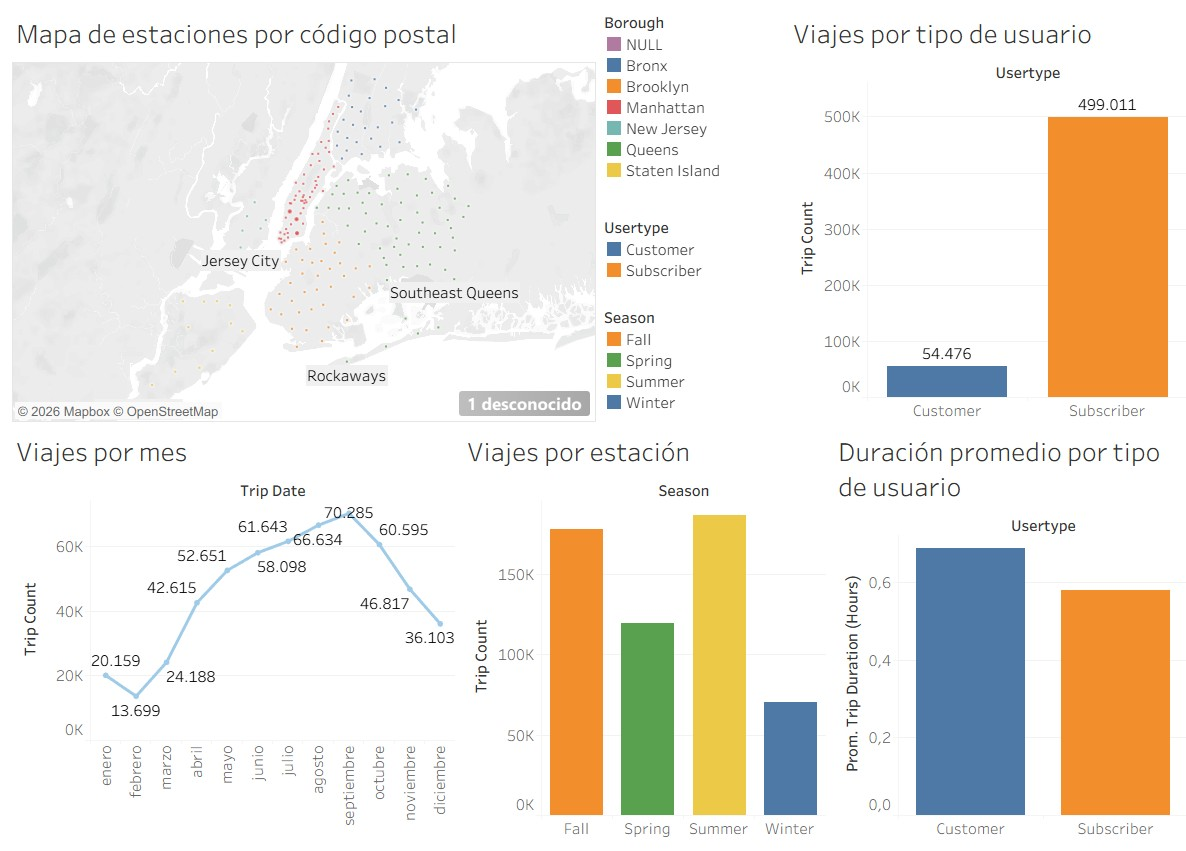

The page's visual inventory and layout, read from the dashboard file:
{"tool":"tableau","page":{"name":"Cyclistic Dashboard","canvas":[1000,1000],"units":"permille","ordinal":0},"visuals":[{"type":"worksheet","title":"Mapa de estaciones por código postal","mark":"Automatic","box":[6.7,9.4,493.3,490.6]},{"type":"legend","title":"Mapa de estaciones por código postal","param":"[federated.09dc49m0d8jiud188qpj61i5r5r9].[none:borough:nk]","box":[500,9.4,154.2,240.6]},{"type":"worksheet","title":"Viajes por tipo de usuario","mark":"Bar","rows":["trip_count"],"cols":["usertype"],"box":[654.2,9.4,339.2,490.6]},{"type":"legend","title":"Viajes por tipo de usuario","param":"[federated.09dc49m0d8jiud188qpj61i5r5r9].[none:usertype:nk]","box":[500,250,154.2,105.6]},{"type":"legend","title":"Viajes por estación","param":"[federated.09dc49m0d8jiud188qpj61i5r5r9].[none:Calculation_1672918004445189:nk]","box":[500,355.6,154.2,144.4]},{"type":"worksheet","title":"Viajes por mes","mark":"Line","rows":["trip_count"],"cols":["Calculation_1672918004252676"],"box":[6.7,500,375.8,490.6]},{"type":"worksheet","title":"Viajes por estación","mark":"Bar","rows":["trip_count"],"cols":["Calculation_1672918004445189"],"box":[382.5,500,309.2,490.6]},{"type":"worksheet","title":"Duración promedio por tipo de usuario","mark":"Bar","rows":["Calculation_1672918004019203"],"cols":["usertype"],"box":[691.7,500,301.7,490.6]}]}

Visuals, with their boxes on the dashboard's canvas, which has no fixed pixel size, in thousandths of its width and height (x1, y1, x2, y2). These are canvas units, not pixel positions in the 1186x851 screenshot, which may show the page scaled, cropped or inside an application window:
"Mapa de estaciones por código postal" worksheet: [x1=7, y1=9, x2=500, y2=500]
"Mapa de estaciones por código postal" legend: [x1=500, y1=9, x2=654, y2=250]
"Viajes por tipo de usuario" worksheet (Bar marks): [x1=654, y1=9, x2=993, y2=500]
"Viajes por tipo de usuario" legend: [x1=500, y1=250, x2=654, y2=356]
"Viajes por estación" legend: [x1=500, y1=356, x2=654, y2=500]
"Viajes por mes" worksheet (Line marks): [x1=7, y1=500, x2=382, y2=991]
"Viajes por estación" worksheet (Bar marks): [x1=382, y1=500, x2=692, y2=991]
"Duración promedio por tipo de usuario" worksheet (Bar marks): [x1=692, y1=500, x2=993, y2=991]
